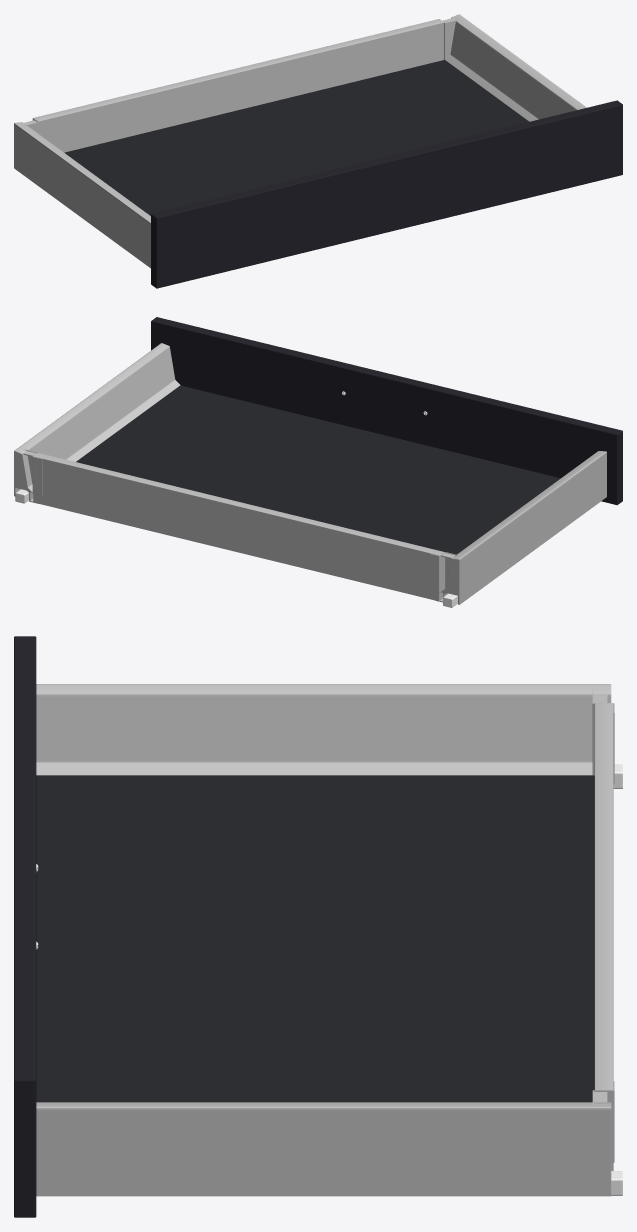
Rendered from Kitchen11Drawer01.obj.
The picture shows the model from 3 angles, top to bottom: view 1: azimuth 30°, elevation 25°; view 2: azimuth 150°, elevation 25°; view 3: azimuth 270°, elevation 25°; orthographic projection. The views are drawn at different scales.
Parts seen in each view (by area): view 1: SM_Kitchen_11_Base_Drawer_01_76; view 2: SM_Kitchen_11_Base_Drawer_01_76; view 3: SM_Kitchen_11_Base_Drawer_01_76.
Part boxes in pixels (x1=…): SM_Kitchen_11_Base_Drawer_01_76: x1=14, y1=14, x2=622, y2=288; SM_Kitchen_11_Base_Drawer_01_76: x1=14, y1=317, x2=622, y2=607; SM_Kitchen_11_Base_Drawer_01_76: x1=14, y1=636, x2=622, y2=1217.
Bounding box in the file's own units: 89.69 × 13 × 51.99.
